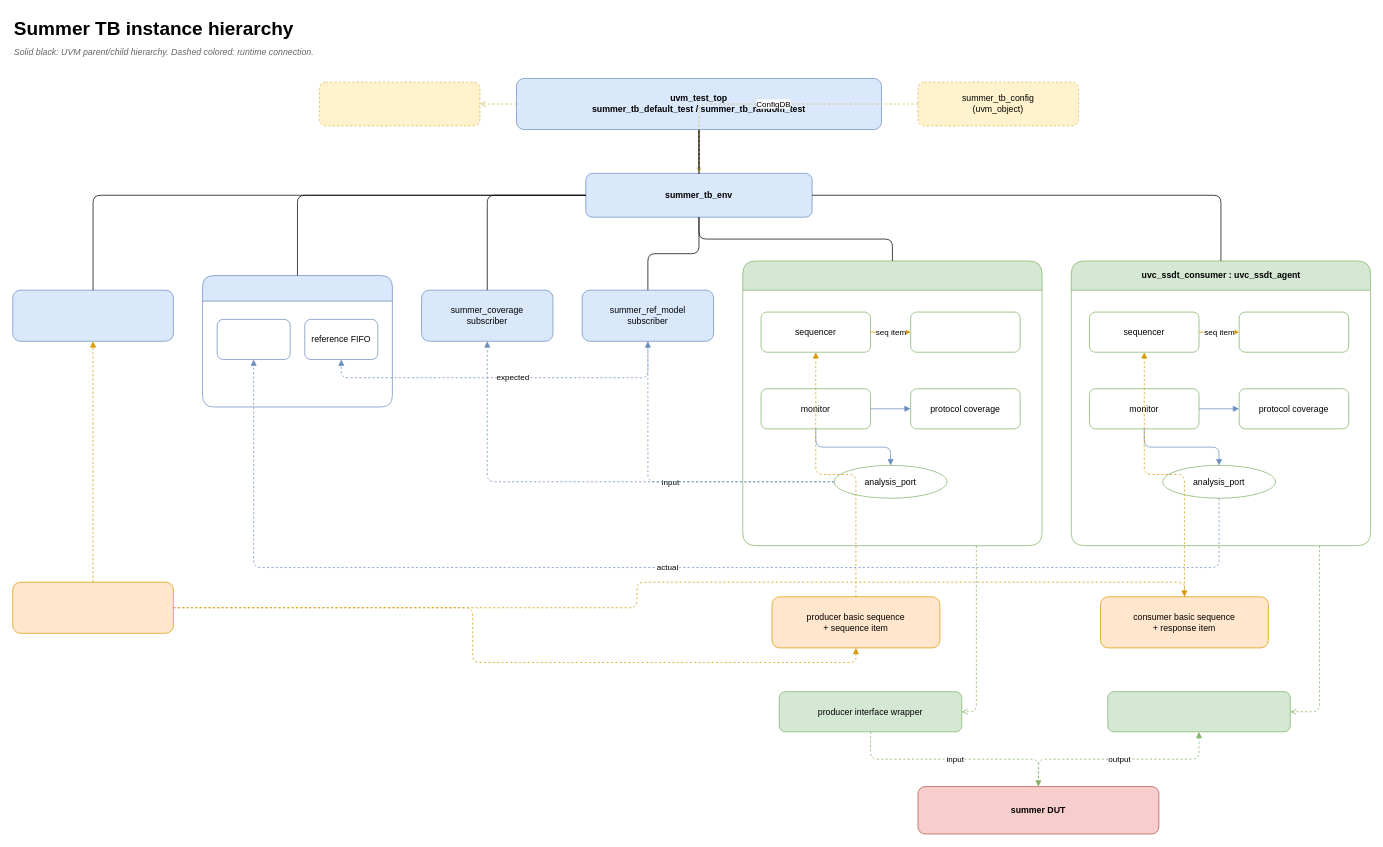
This 1383x847 diagram has some shape labels left out. The shapes that lost their labels are listed below. From the top down, each one's box as (x1, y1, x2, y2) in pixels, then its label:
(319, 81, 480, 126): 2 × interface assertion helper
(12, 289, 173, 341): summer_tb_top_seqr virtual sequencer
(910, 311, 1020, 352): producer driver
(1238, 311, 1349, 352): consumer driver
(216, 319, 290, 360): consumer FIFO
(202, 275, 392, 407): summer_tb_scoreboard
(742, 260, 1042, 546): uvc_ssdt_producer : uvc_ssdt_agent
(12, 581, 173, 633): Active virtual sequence default or random
(1107, 691, 1290, 732): consumer interface wrapper
